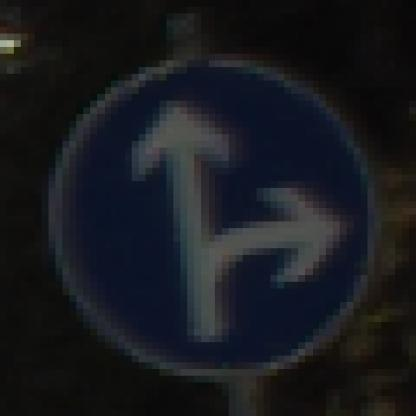Straight or Right: (36, 35, 382, 384)
